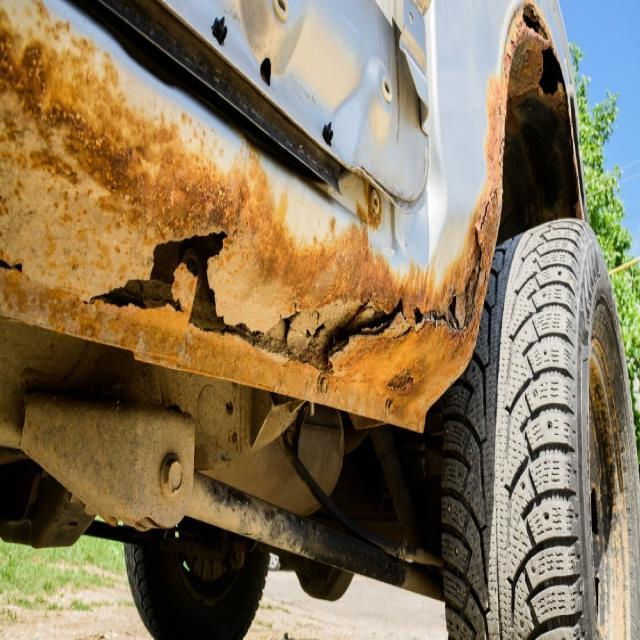corrosion: (258, 231, 450, 420), (2, 9, 90, 321), (105, 117, 227, 342), (8, 357, 167, 523), (171, 403, 323, 499), (502, 16, 568, 105), (464, 239, 485, 323), (488, 120, 505, 220), (590, 376, 612, 433), (362, 187, 381, 223)
